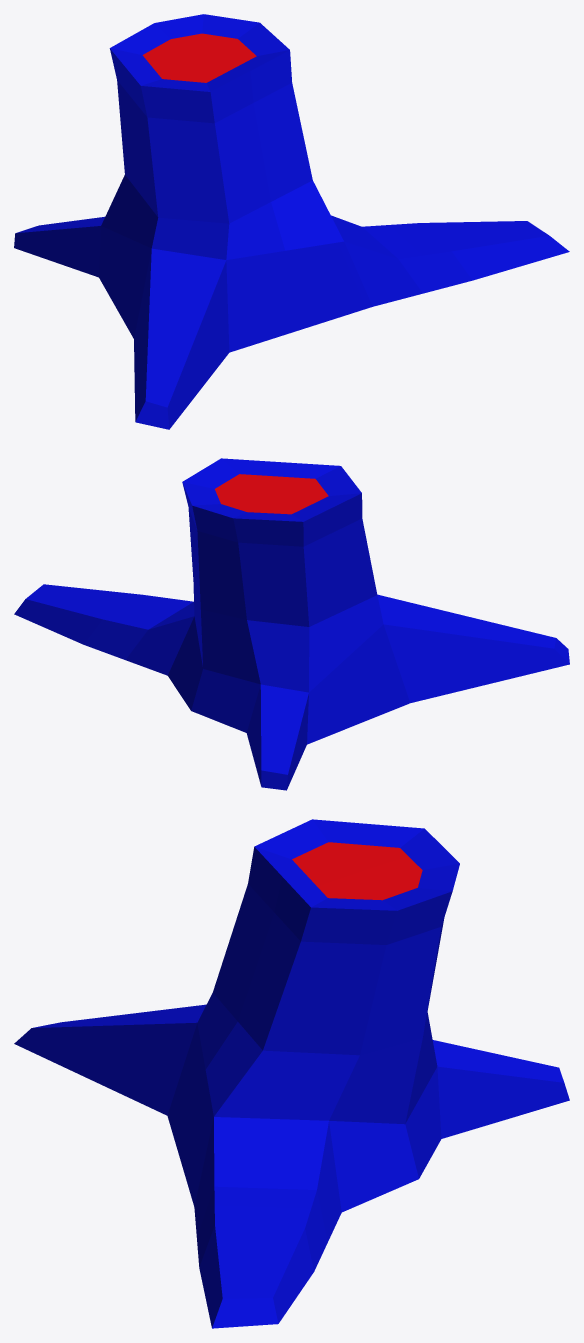
The model's file is SM_TreeStump3.fbx.
3 views of the same model, one above another, from view 1: azimuth 30°, elevation 25°; view 2: azimuth 150°, elevation 25°; view 3: azimuth 270°, elevation 25° (orthographic). The views are drawn at different scales.
Parts seen in each view (by area): view 1: SM_TreeStump3; view 2: SM_TreeStump3; view 3: SM_TreeStump3.
Part boxes in pixels (left/top/right/bottom): SM_TreeStump3: left=14, top=14, right=569, bottom=429; SM_TreeStump3: left=14, top=458, right=569, bottom=790; SM_TreeStump3: left=14, top=819, right=569, bottom=1328.
Bounding box in the file's own units: 148 × 65.52 × 117.
